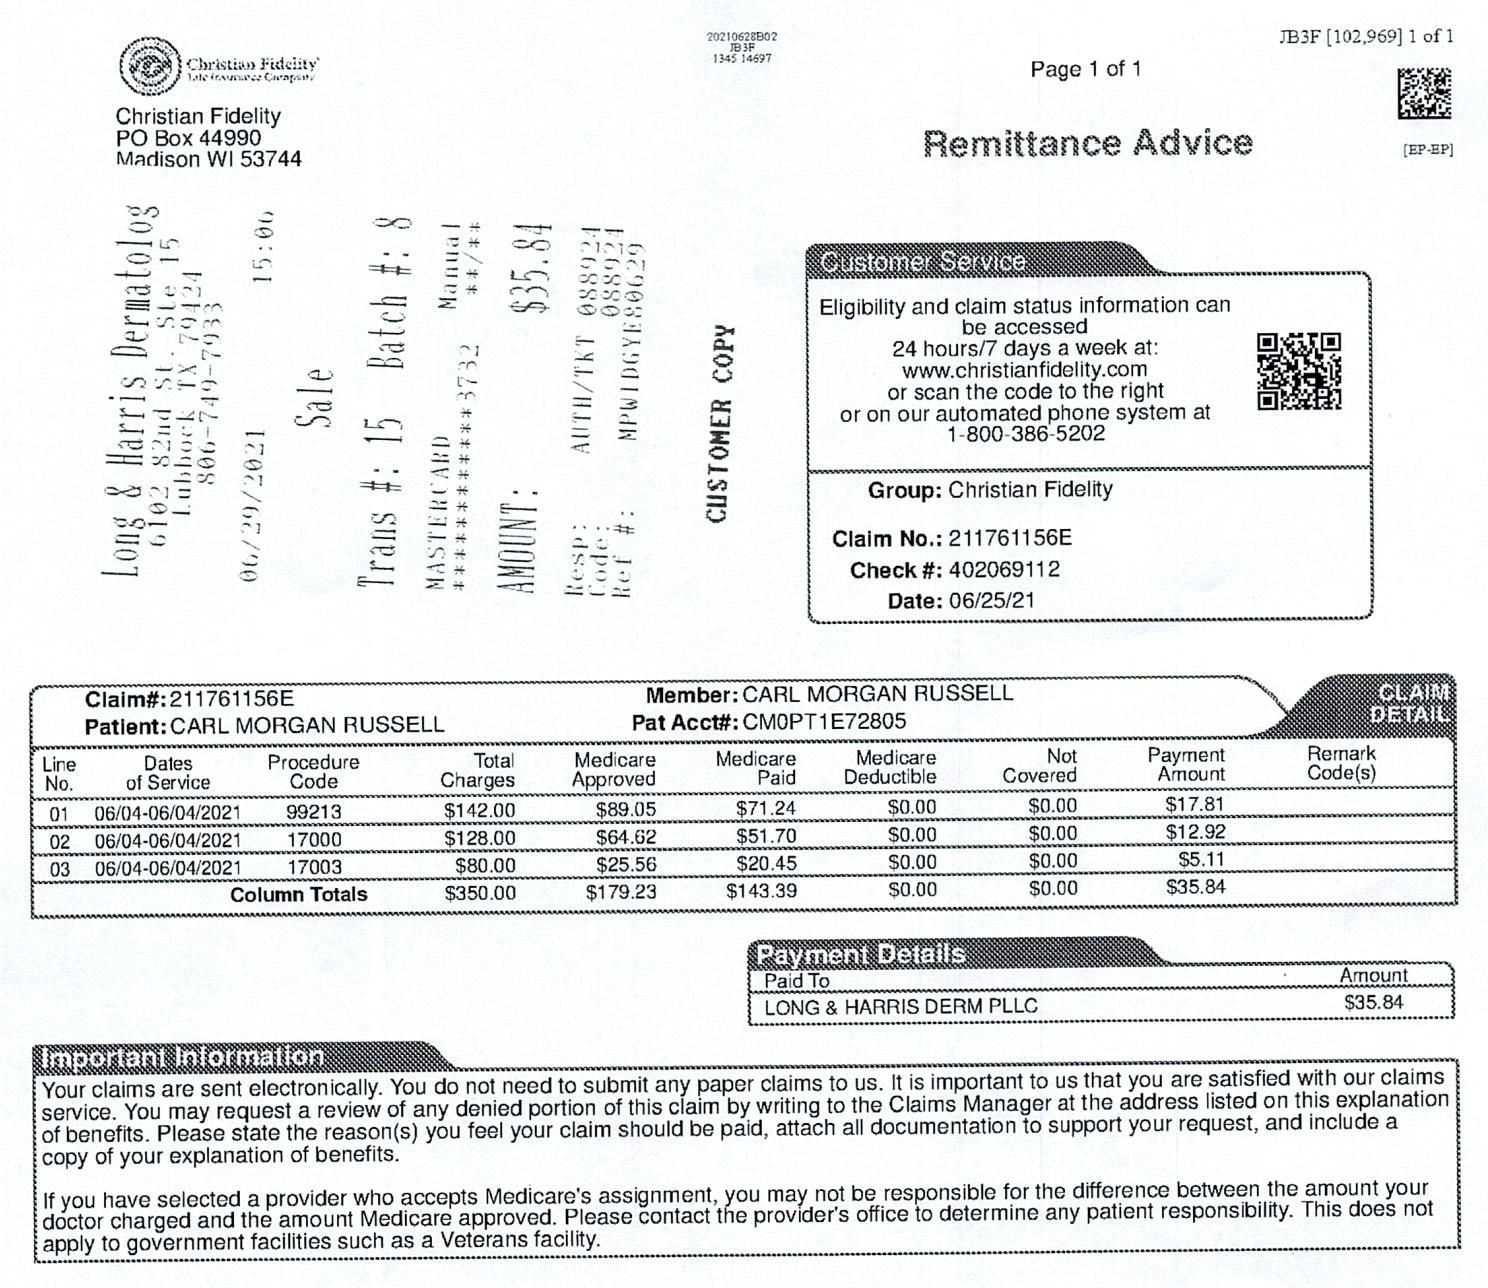data: (792, 459, 1386, 626)
table: (15, 671, 1472, 915), (745, 932, 1461, 1030)
